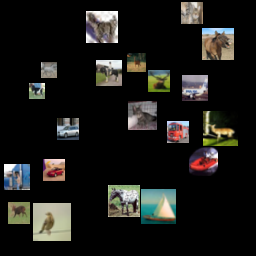airplane: (182, 75, 208, 101)
automobile: (57, 118, 79, 140), (43, 159, 65, 181)
bird: (33, 203, 71, 241)
cat: (86, 11, 118, 43), (128, 101, 157, 130), (181, 2, 203, 24)
deer: (203, 111, 238, 146), (148, 70, 170, 92), (8, 202, 30, 224), (127, 53, 146, 72)
dog: (29, 83, 45, 99)
ship: (141, 189, 176, 224), (189, 147, 218, 176)
